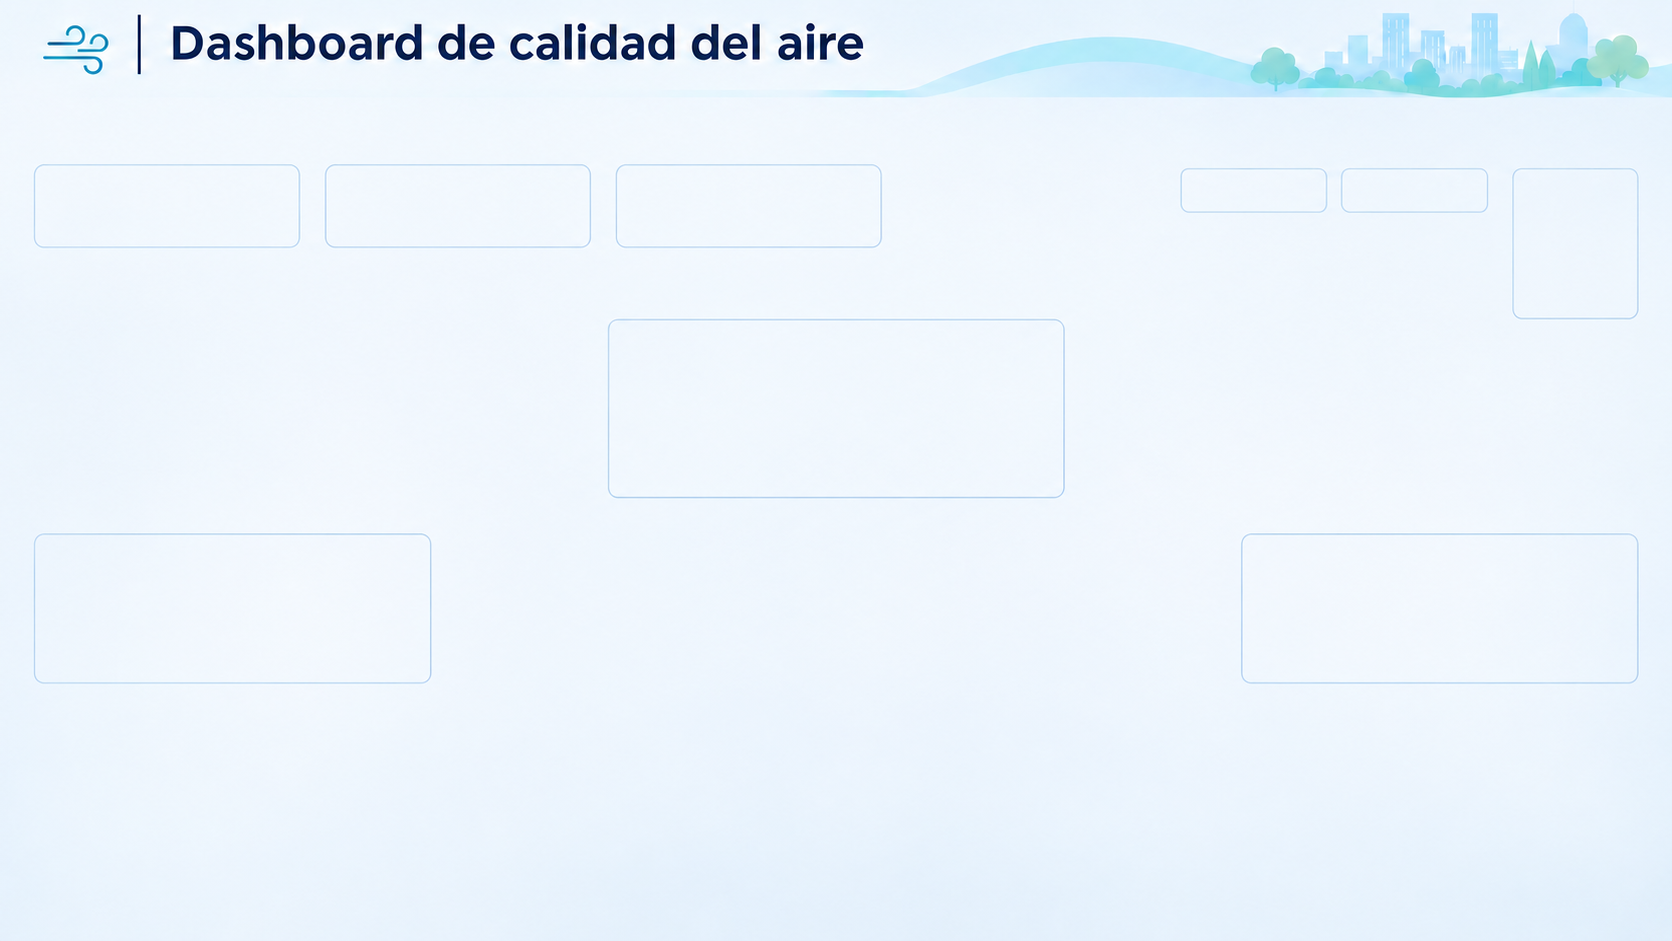

The page's visual inventory and layout, read from the dashboard file:
{"tool":"powerbi","page":{"name":"Página 1","canvas":[1920,1080],"ordinal":0},"visuals":[{"type":"cardVisual","fields":{"Data":["Avg(hecho_calidad_aire.co_gt)"]},"box":[425.1,120.9,300,300],"z":0},{"type":"cardVisual","fields":{"Data":["Avg(hecho_calidad_aire.no2_gt)"]},"box":[74.7,120.9,300,300],"z":1000},{"type":"clusteredColumnChart","fields":{"Category":["hecho_calidad_aire.banda_co"],"Y":["CountNonNull(hecho_calidad_aire.banda_co)"]},"box":[758.7,120.9,300,300],"z":2000},{"type":"scatterChart","fields":{"Category":["hecho_calidad_aire.medicion_id"],"X":["Sum(hecho_calidad_aire.co_gt)"],"Y":["Sum(hecho_calidad_aire.pt08_s1_co)"]},"box":[1088,120,300,300],"z":3000},{"type":"slicer","fields":{"Values":["dim_tiempo.anio"]},"box":[74,432,300,300],"z":4000},{"type":"slicer","fields":{"Values":["dim_tiempo.mes"]},"box":[425,431,300,300],"z":5000},{"type":"slicer","fields":{"Values":["hecho_calidad_aire.banda_co"]},"box":[788.2,461.2,300,300],"z":6000},{"type":"textbox","box":[1398,120,300,300],"z":7000}]}

Visuals, with their boxes in screenshot pixels (x1, y1, x2, y2), scaled from the page's 1920x1080 canvas onto the 1672x941 screenshot:
cardVisual - Avg(hecho_calidad_aire.co_gt): 370 105 631 367
cardVisual - Avg(hecho_calidad_aire.no2_gt): 65 105 326 367
clusteredColumnChart - hecho_calidad_aire.banda_co x CountNonNull(hecho_calidad_aire.banda_co): 661 105 922 367
scatterChart - hecho_calidad_aire.medicion_id x Sum(hecho_calidad_aire.co_gt): 947 105 1209 366
slicer - dim_tiempo.anio: 64 376 326 638
slicer - dim_tiempo.mes: 370 376 631 637
slicer - hecho_calidad_aire.banda_co: 686 402 948 663
textbox: 1217 105 1479 366
